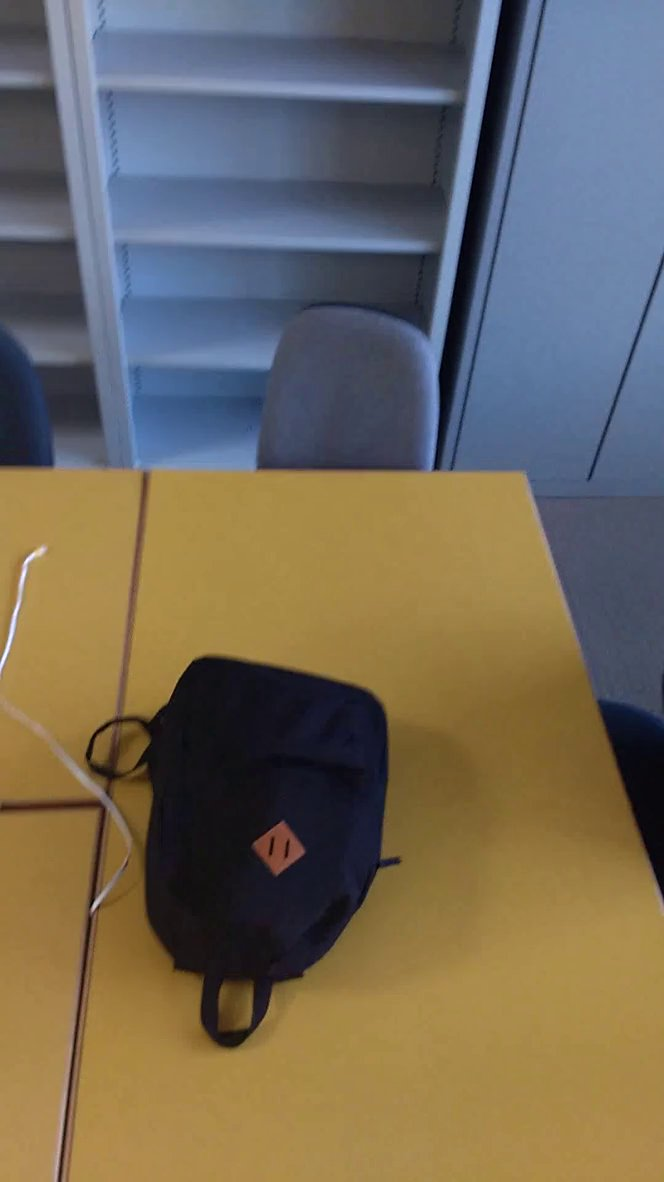bag: (78, 645, 415, 1059)
chair: (246, 289, 462, 507)
